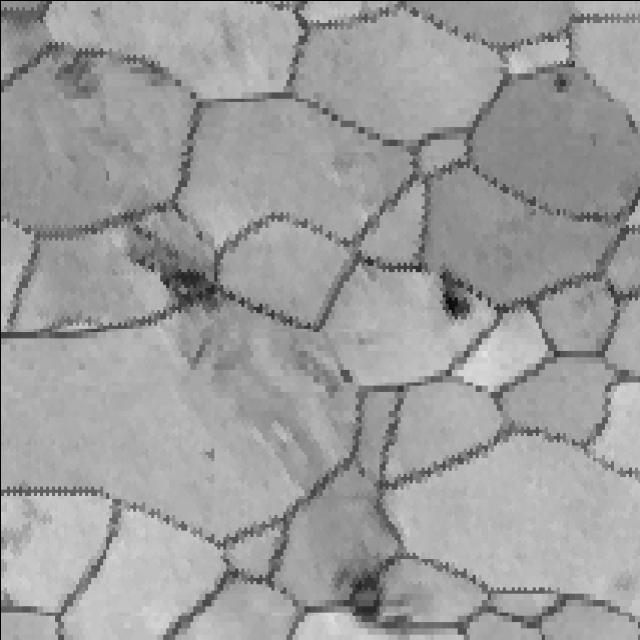good_void: (123, 218, 214, 300), (340, 570, 390, 625), (54, 49, 106, 100), (436, 277, 471, 321), (197, 442, 221, 470), (334, 360, 352, 396), (550, 72, 574, 95)
